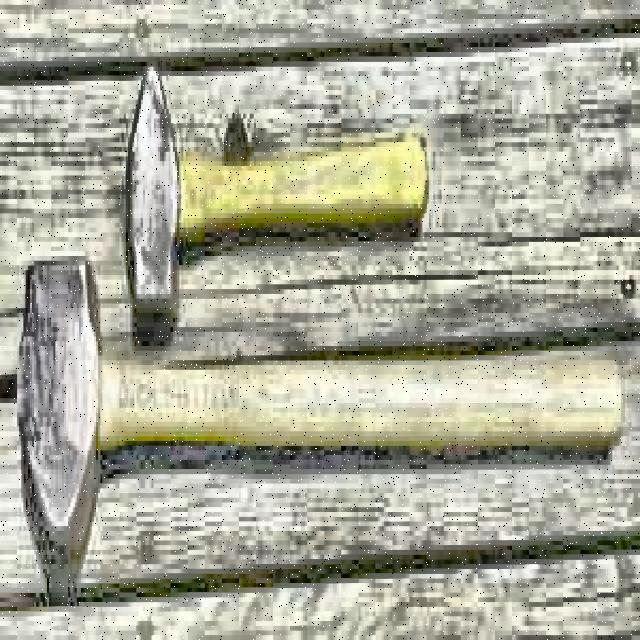hammer: (17, 254, 623, 550), (128, 62, 428, 312)
